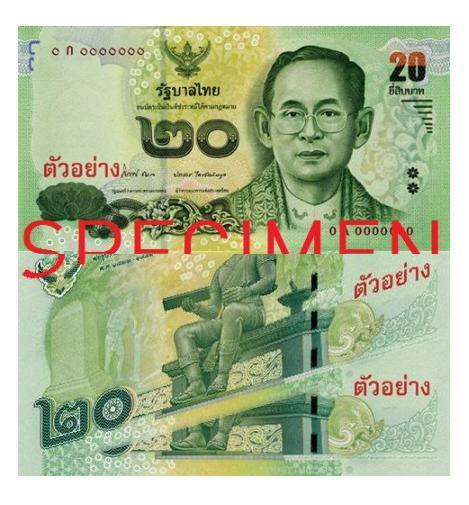20BahtTai: (19, 254, 453, 476)
